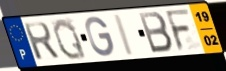B: (137, 10, 175, 55)
F: (163, 7, 193, 53)
G: (84, 15, 116, 58)
I: (112, 13, 136, 57)
Q: (52, 17, 89, 61)
R: (22, 21, 62, 62)
